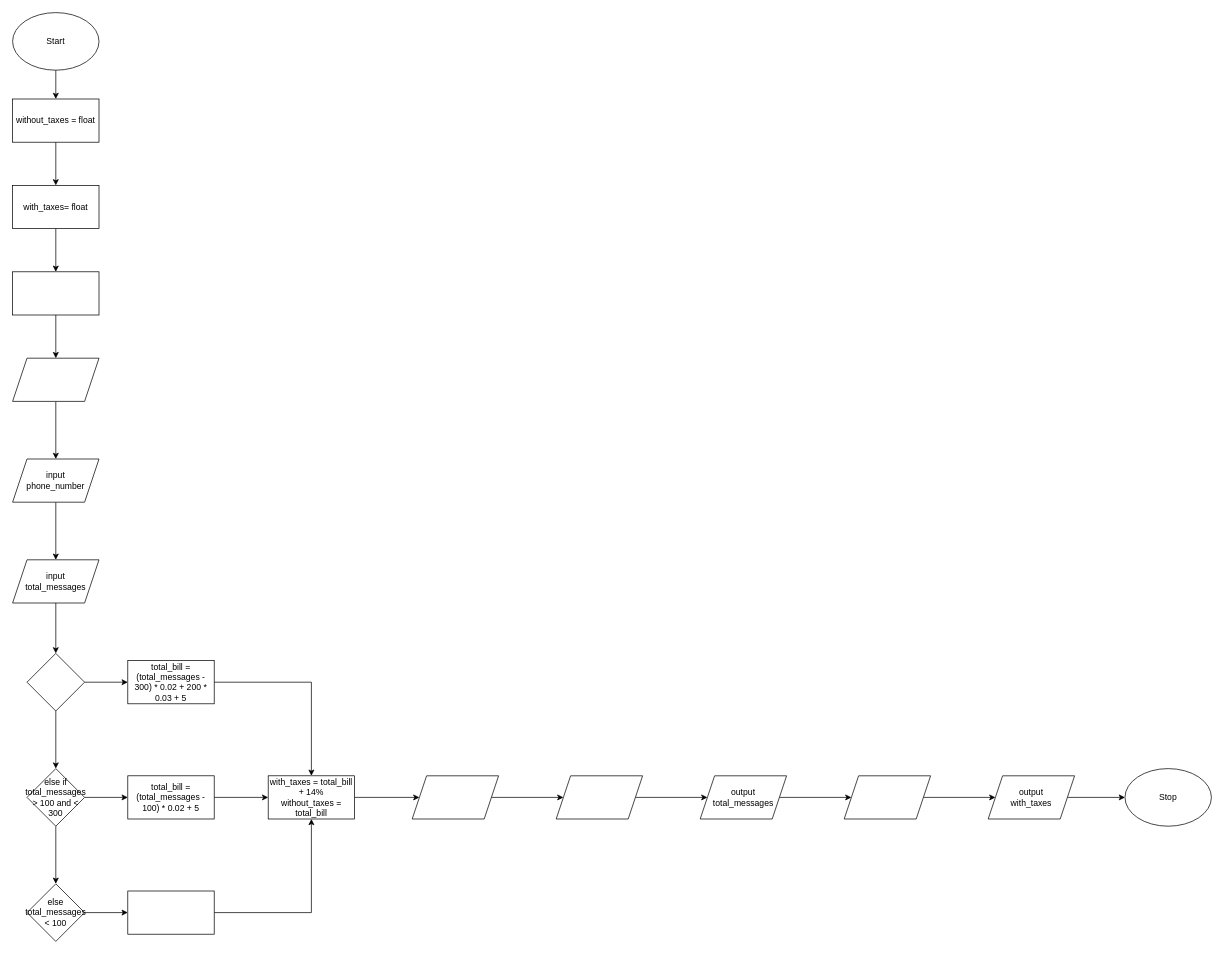
Image size: 1224x954. Some labels were removed from this diagram. The shapes that lost their labels are listed below. From the top down, each one's centre as x and y in pixels, then its label:
At point 55,293: "total_bill = float".
At point 55,379: "input area_code".
At point 55,682: "if total_messages > 300".
At point 455,797: "output area_code".
At point 599,797: "output phone_number".
At point 887,797: "output without_taxes".
At point 170,912: "total_bill = total_messages * 5".
